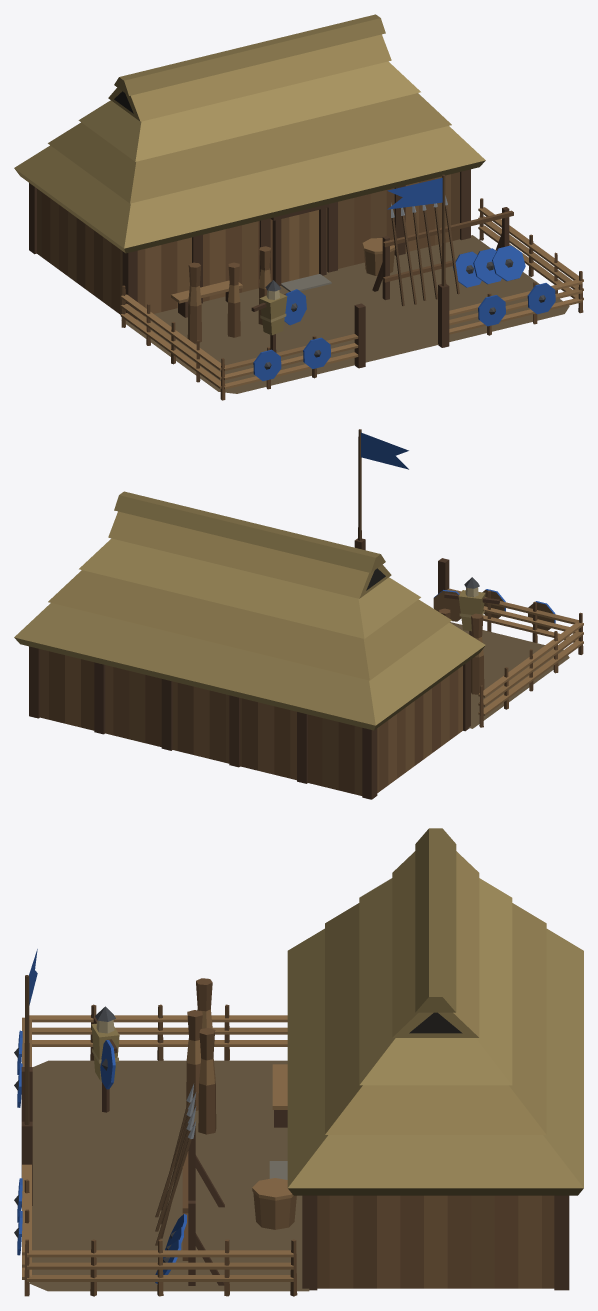
Rendered from barracks.glb.
3 views of the same model, one above another, from view 1: azimuth 30°, elevation 25°; view 2: azimuth 150°, elevation 25°; view 3: azimuth 270°, elevation 25° (orthographic). The views are drawn at different scales.
Visible parts, largest first — view 1: barracks; view 2: barracks; view 3: barracks.
Boxes of the visible parts, x1,y1,x2,y2 form: barracks: [14, 14, 583, 400]; barracks: [14, 429, 583, 799]; barracks: [14, 828, 583, 1296].
Size of the model in its own units: 9.16 by 4.76 by 9.23.
